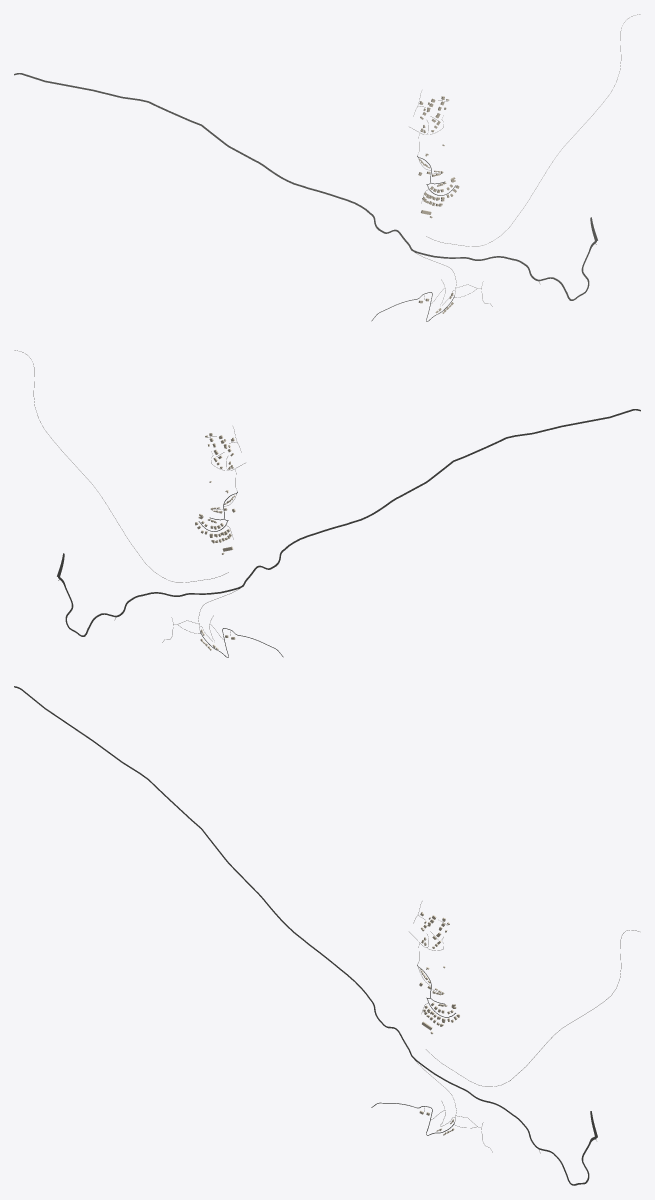
Rendered from historic-palestine-11_26_3534_3204.glb.
3 views of the same model, one above another, from view 1: azimuth 30°, elevation 25°; view 2: azimuth 150°, elevation 25°; view 3: azimuth 330°, elevation 25° (orthographic).
Visible parts, largest first — view 1: Road דרך גדעון; view 2: Road דרך גדעון; view 3: Road דרך גדעון.
Boxes of the visible parts, bbox=[...] form: Road דרך גדעון: bbox=[14, 73, 589, 300]; Road דרך גדעון: bbox=[65, 409, 640, 636]; Road דרך גדעון: bbox=[14, 686, 589, 1185].
Size of the model in its own units: 3332 by 1845 by 8.7.
